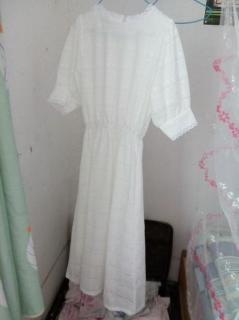short sleeve dress: (47, 2, 199, 316)
